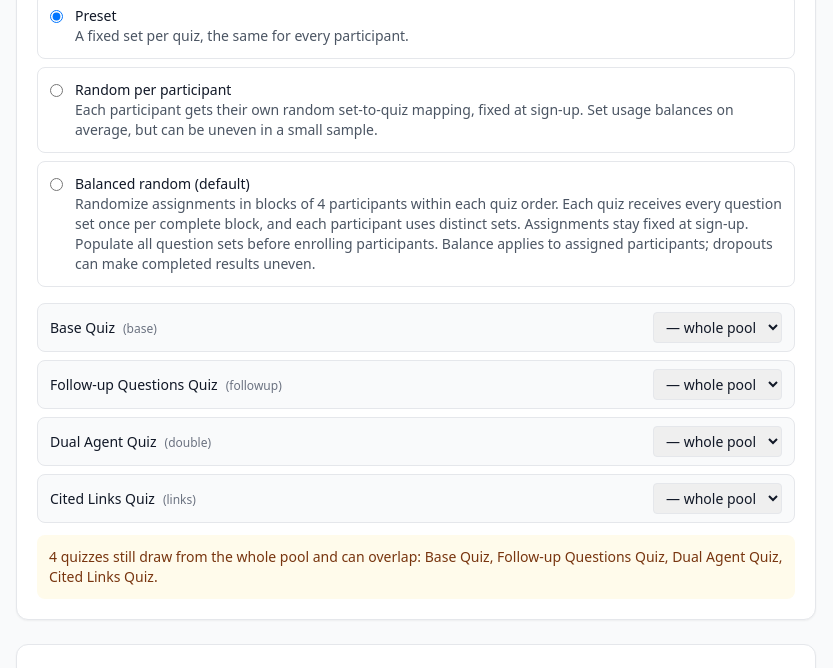
Test case: StudyFlowPanel — question sets › warns and blocks saving when two quizzes share a set
(page scrolled)
Select "Set A" in the dropdown named "Question set for Base Quiz" at (718, 328), box [653,312,782,343]
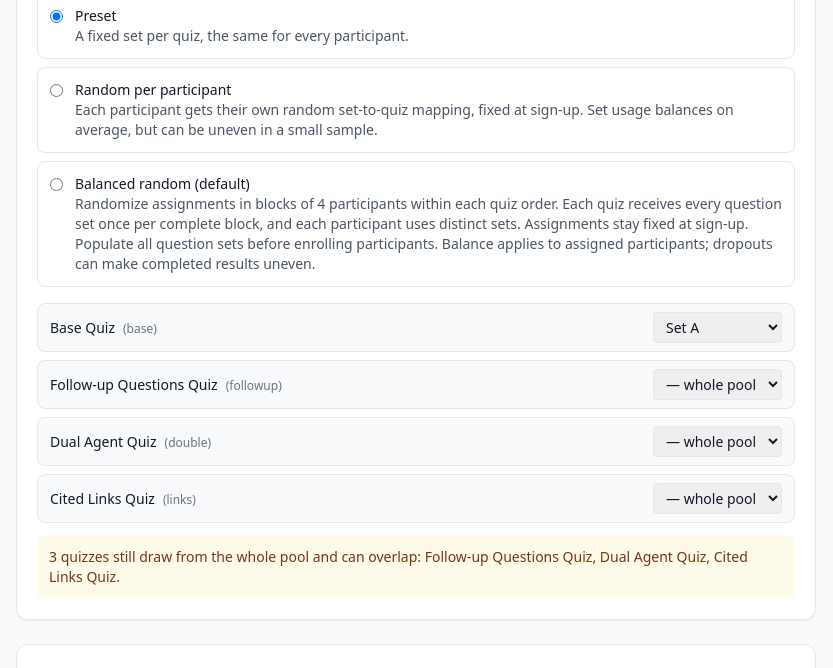
Select "Set A" in the dropdown named "Question set for Dual Agent Quiz" at (718, 442), box [653,426,782,457]
(page scrolled)
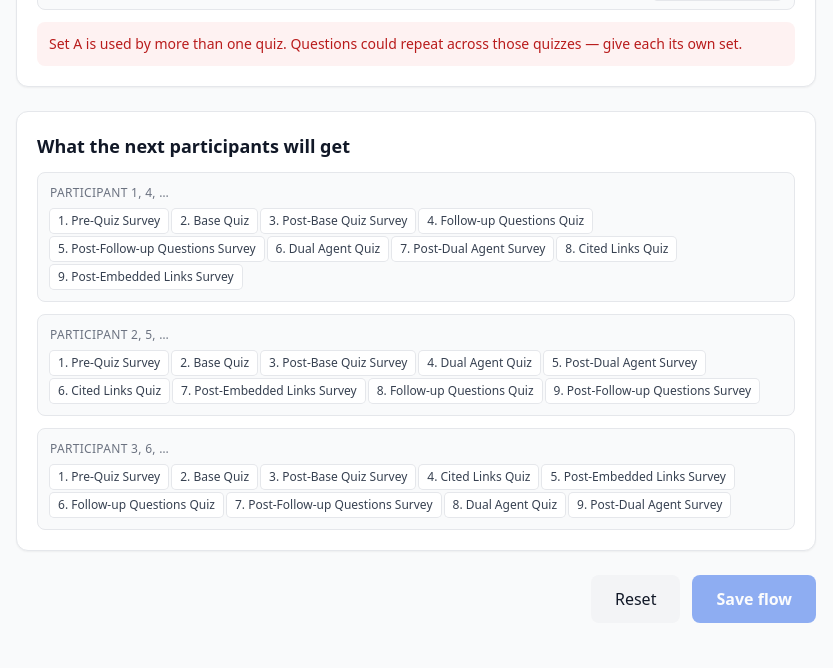
Expected: the button "Save flow" is disabled, [692,575,816,623]
